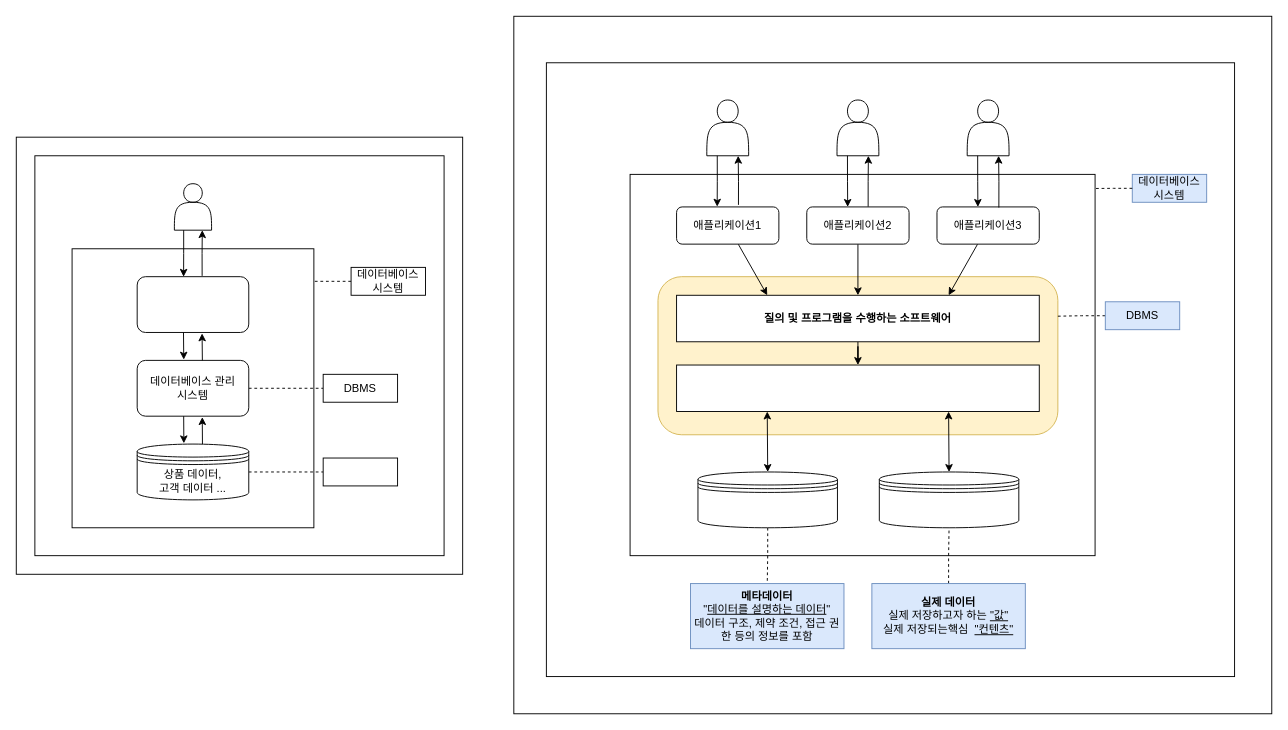
Image size: 1288x730. Some labels were removed from this diagram. Each missing label, with the centre of its shape:
데이터베이스: the point at 360,471
메타데이터 (데이터에 대한 정의): the point at 767,499
쇼핑몰 애플리케이션: the point at 192,304
저장된 데이터베이스: the point at 948,499
저장된 데이터에 접근하는 소프트웨어: the point at 857,388
